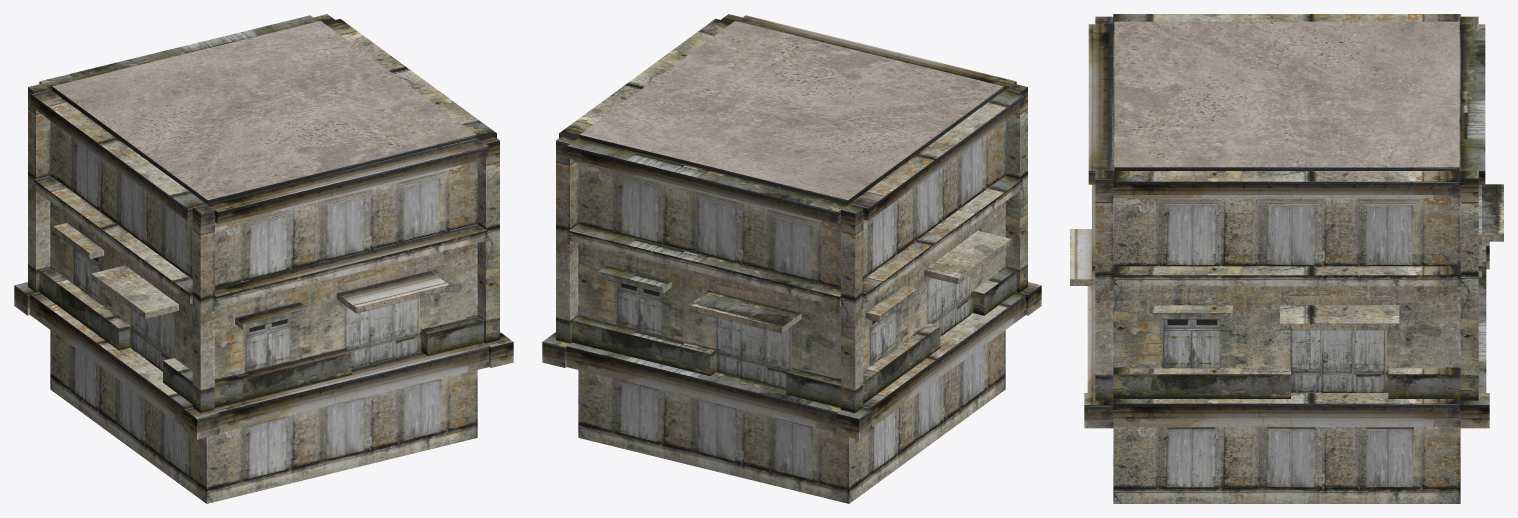
File: BagBuilding10_70.fbx
The picture shows the model from 3 angles, left to right: view 1: azimuth 30°, elevation 25°; view 2: azimuth 150°, elevation 25°; view 3: azimuth 270°, elevation 25°; orthographic projection. The views are drawn at different scales.
Parts seen in each view (by area): view 1: main70, Box70, roof70; view 2: main70, Box70, roof70; view 3: main70, roof70, Box70.
Boxes of the visible parts, bbox=[...] form: main70: bbox=[14, 14, 513, 503]; Box70: bbox=[52, 86, 476, 378]; roof70: bbox=[52, 21, 475, 200]; main70: bbox=[542, 14, 1041, 503]; Box70: bbox=[579, 86, 1003, 388]; roof70: bbox=[580, 21, 1003, 200]; main70: bbox=[1070, 14, 1503, 503]; roof70: bbox=[1114, 21, 1459, 167]; Box70: bbox=[1114, 167, 1459, 392].
Bounding box in the file's own units: 23.1 × 19.76 × 23.1.
